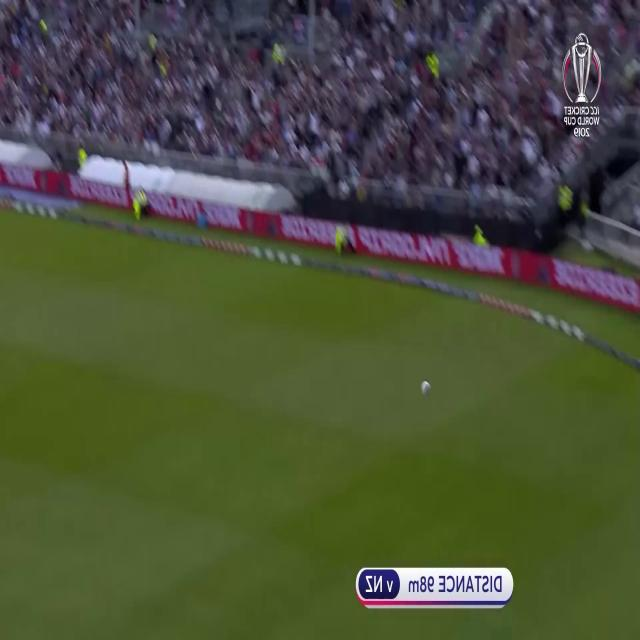ball: (420, 378, 431, 400)
